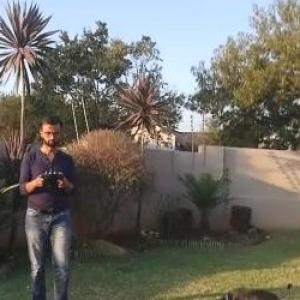follow: (15, 110, 80, 299)
null: (202, 278, 294, 299)
